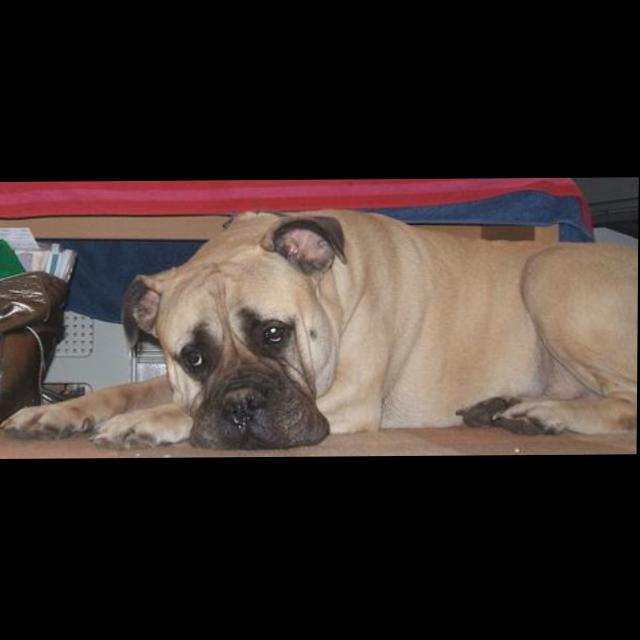bullmastiff: (1, 206, 639, 452)
